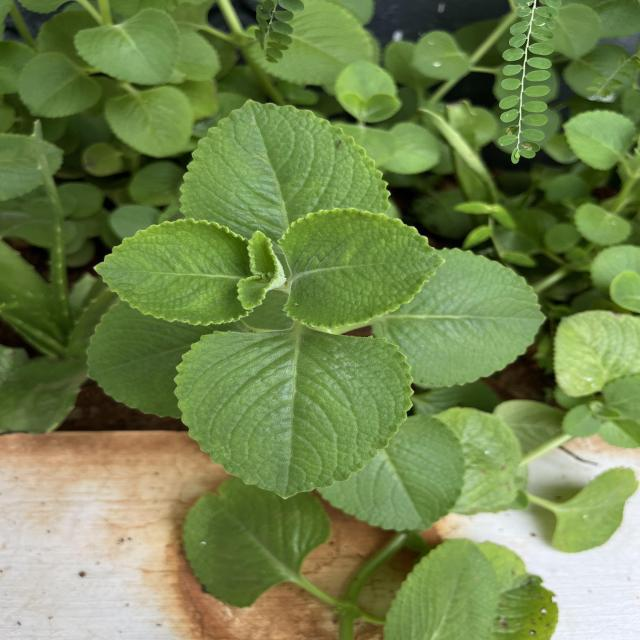Plectranthus barbatus: (172, 328, 416, 502), (177, 95, 393, 218), (368, 245, 548, 389), (276, 207, 447, 329), (180, 474, 334, 608), (92, 217, 273, 328), (315, 412, 467, 532), (381, 536, 500, 640), (72, 7, 182, 86), (548, 464, 640, 554), (551, 307, 640, 397), (103, 85, 195, 159), (15, 52, 104, 120), (560, 107, 638, 172)
